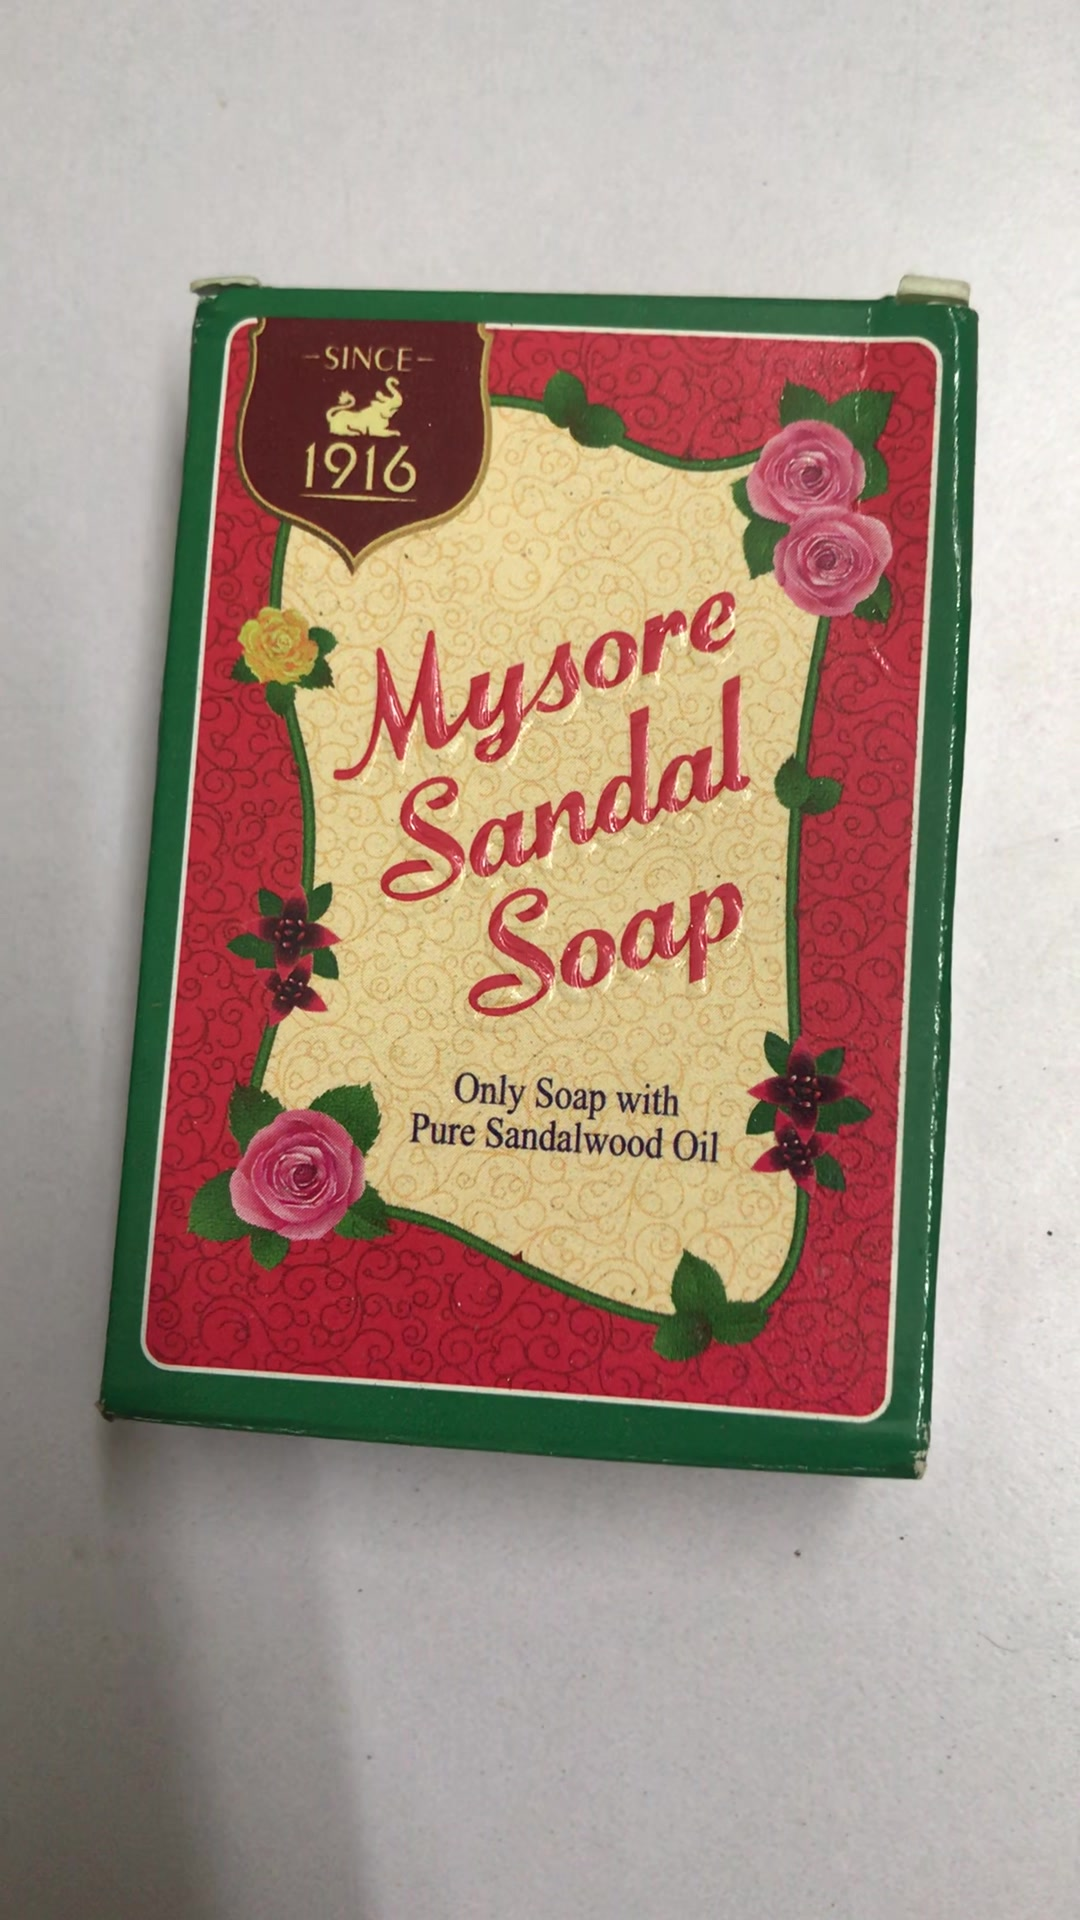mysore sandal soap: (90, 273, 978, 1481)
